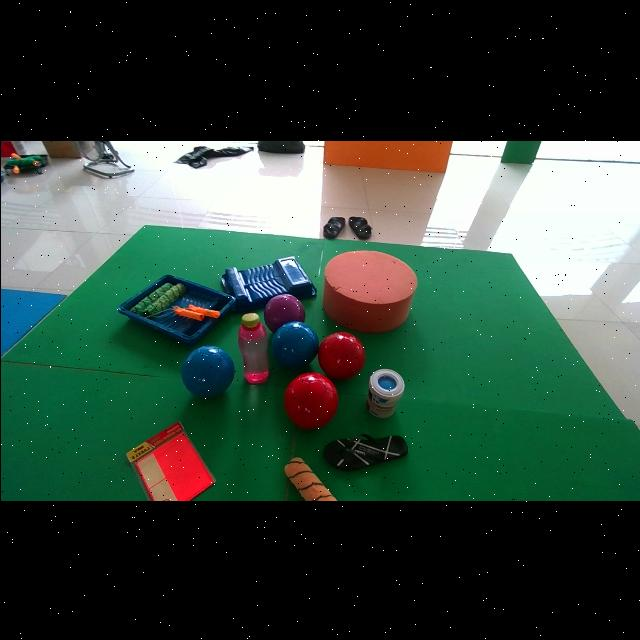B: (181, 345, 234, 397), (273, 321, 318, 367)
P: (263, 294, 303, 331)
R: (283, 371, 338, 428), (318, 332, 364, 378)
